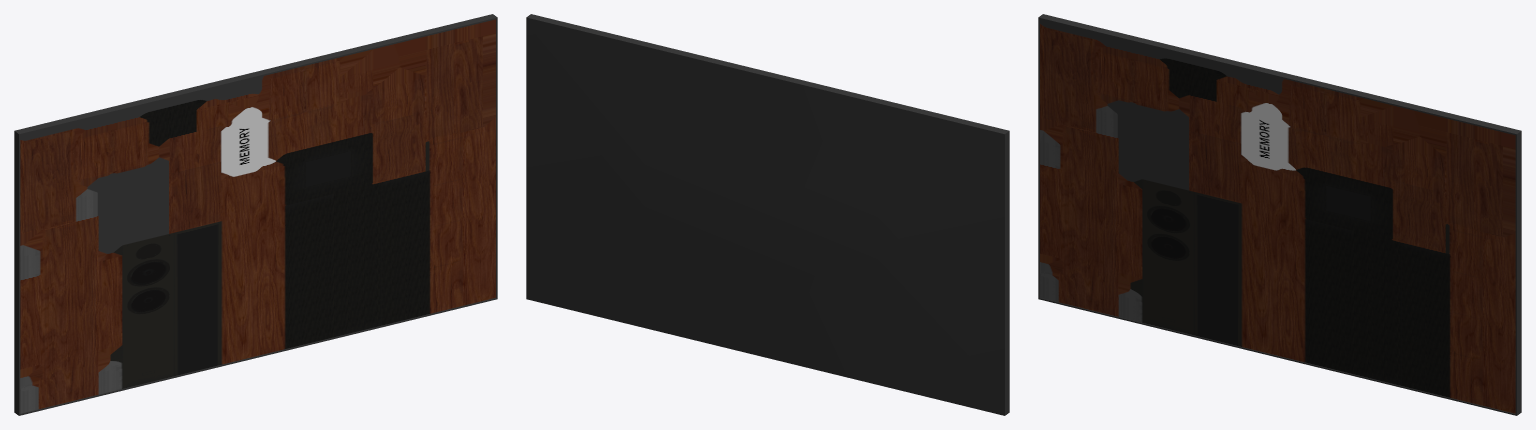
File: media_console_TV.fbx
3 views of the same model, side by side, from view 1: azimuth 30°, elevation 25°; view 2: azimuth 150°, elevation 25°; view 3: azimuth 330°, elevation 25° (orthographic).
Parts seen in each view (by area): view 1: media console lowpoly; view 2: media console lowpoly; view 3: media console lowpoly.
Boxes of the visible parts, x1,y1,x2,y2 form: media console lowpoly: (14,14,497,415); media console lowpoly: (526,14,1009,415); media console lowpoly: (1038,14,1521,415).
Size of the model in its own units: 188 by 106 by 6.04.
